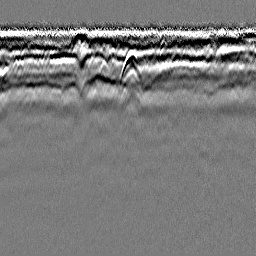cavity: (118, 49, 142, 85)
